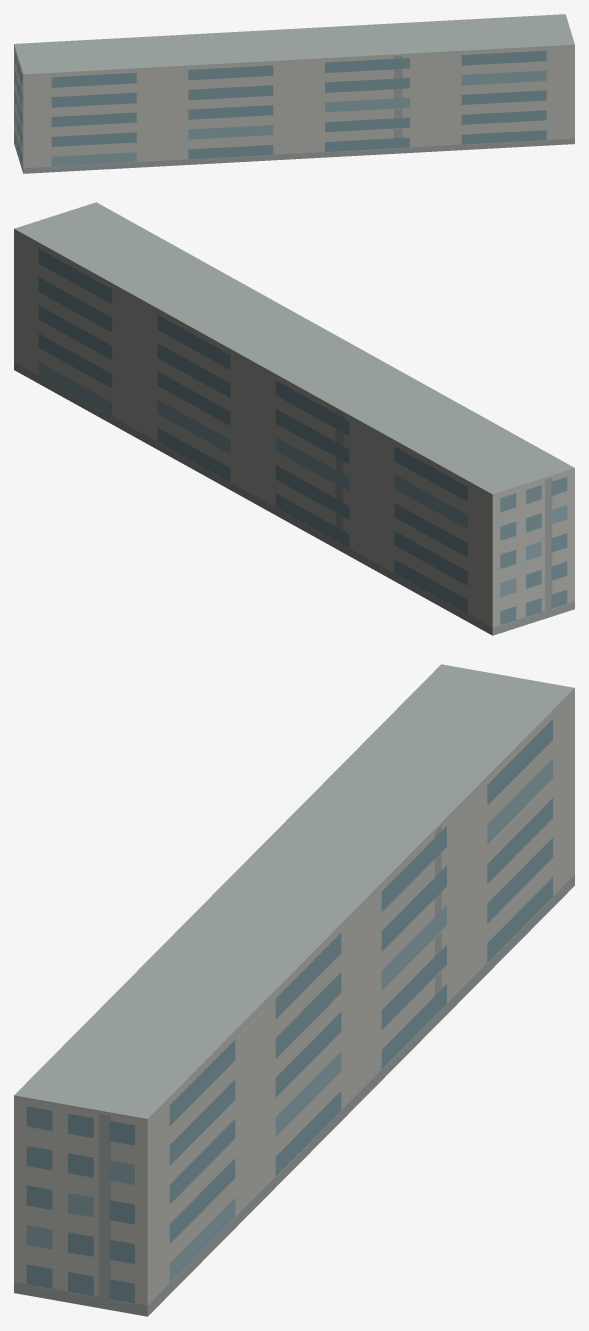
The model's file is residential-75c2039f-9b8f-4c04-8bc5-5a02679eea71.glb.
The picture shows the model from 3 angles, top to bottom: view 1: azimuth 30°, elevation 25°; view 2: azimuth 150°, elevation 25°; view 3: azimuth 270°, elevation 25°; orthographic projection. The views are drawn at different scales.
Parts seen in each view (by area): view 1: residential-75c2039f-9b8f-4c04-8bc5-5a02679eea71.tmp; view 2: residential-75c2039f-9b8f-4c04-8bc5-5a02679eea71.tmp; view 3: residential-75c2039f-9b8f-4c04-8bc5-5a02679eea71.tmp.
Boxes of the visible parts, left/top/right/bottom form: residential-75c2039f-9b8f-4c04-8bc5-5a02679eea71.tmp: left=14, top=14, right=574, bottom=173; residential-75c2039f-9b8f-4c04-8bc5-5a02679eea71.tmp: left=14, top=202, right=574, bottom=635; residential-75c2039f-9b8f-4c04-8bc5-5a02679eea71.tmp: left=14, top=664, right=574, bottom=1316.
Bounding box in the file's own units: 75.23 × 15.25 × 39.22.
